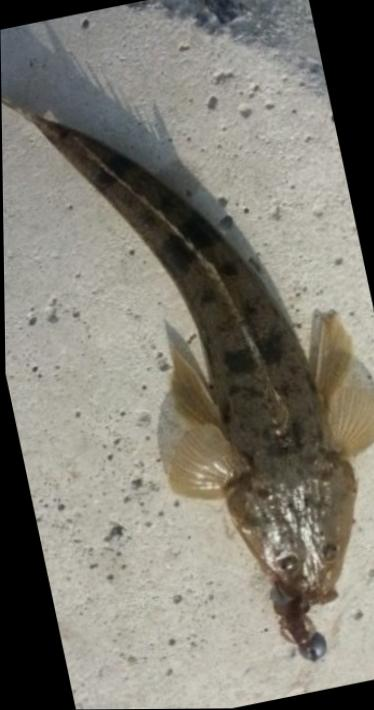fish: (1, 92, 374, 606)
